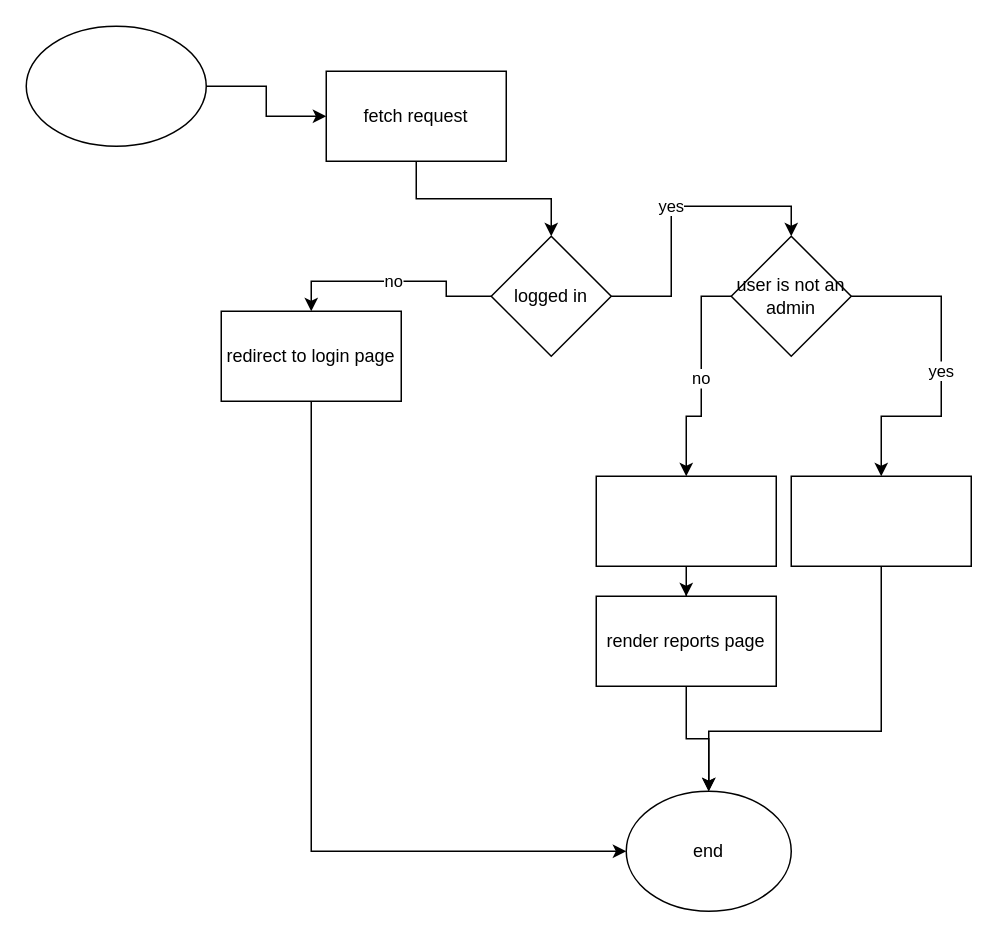
Some shapes in this 998 by 938 pixel diagram are drawn without their labels. Here are the shapes that lost their labels. From the top down, the centre of each, then its label:
At point 115,85: "start".
At point 685,520: "show reports ordered by date".
At point 880,520: "redirect to home page".
